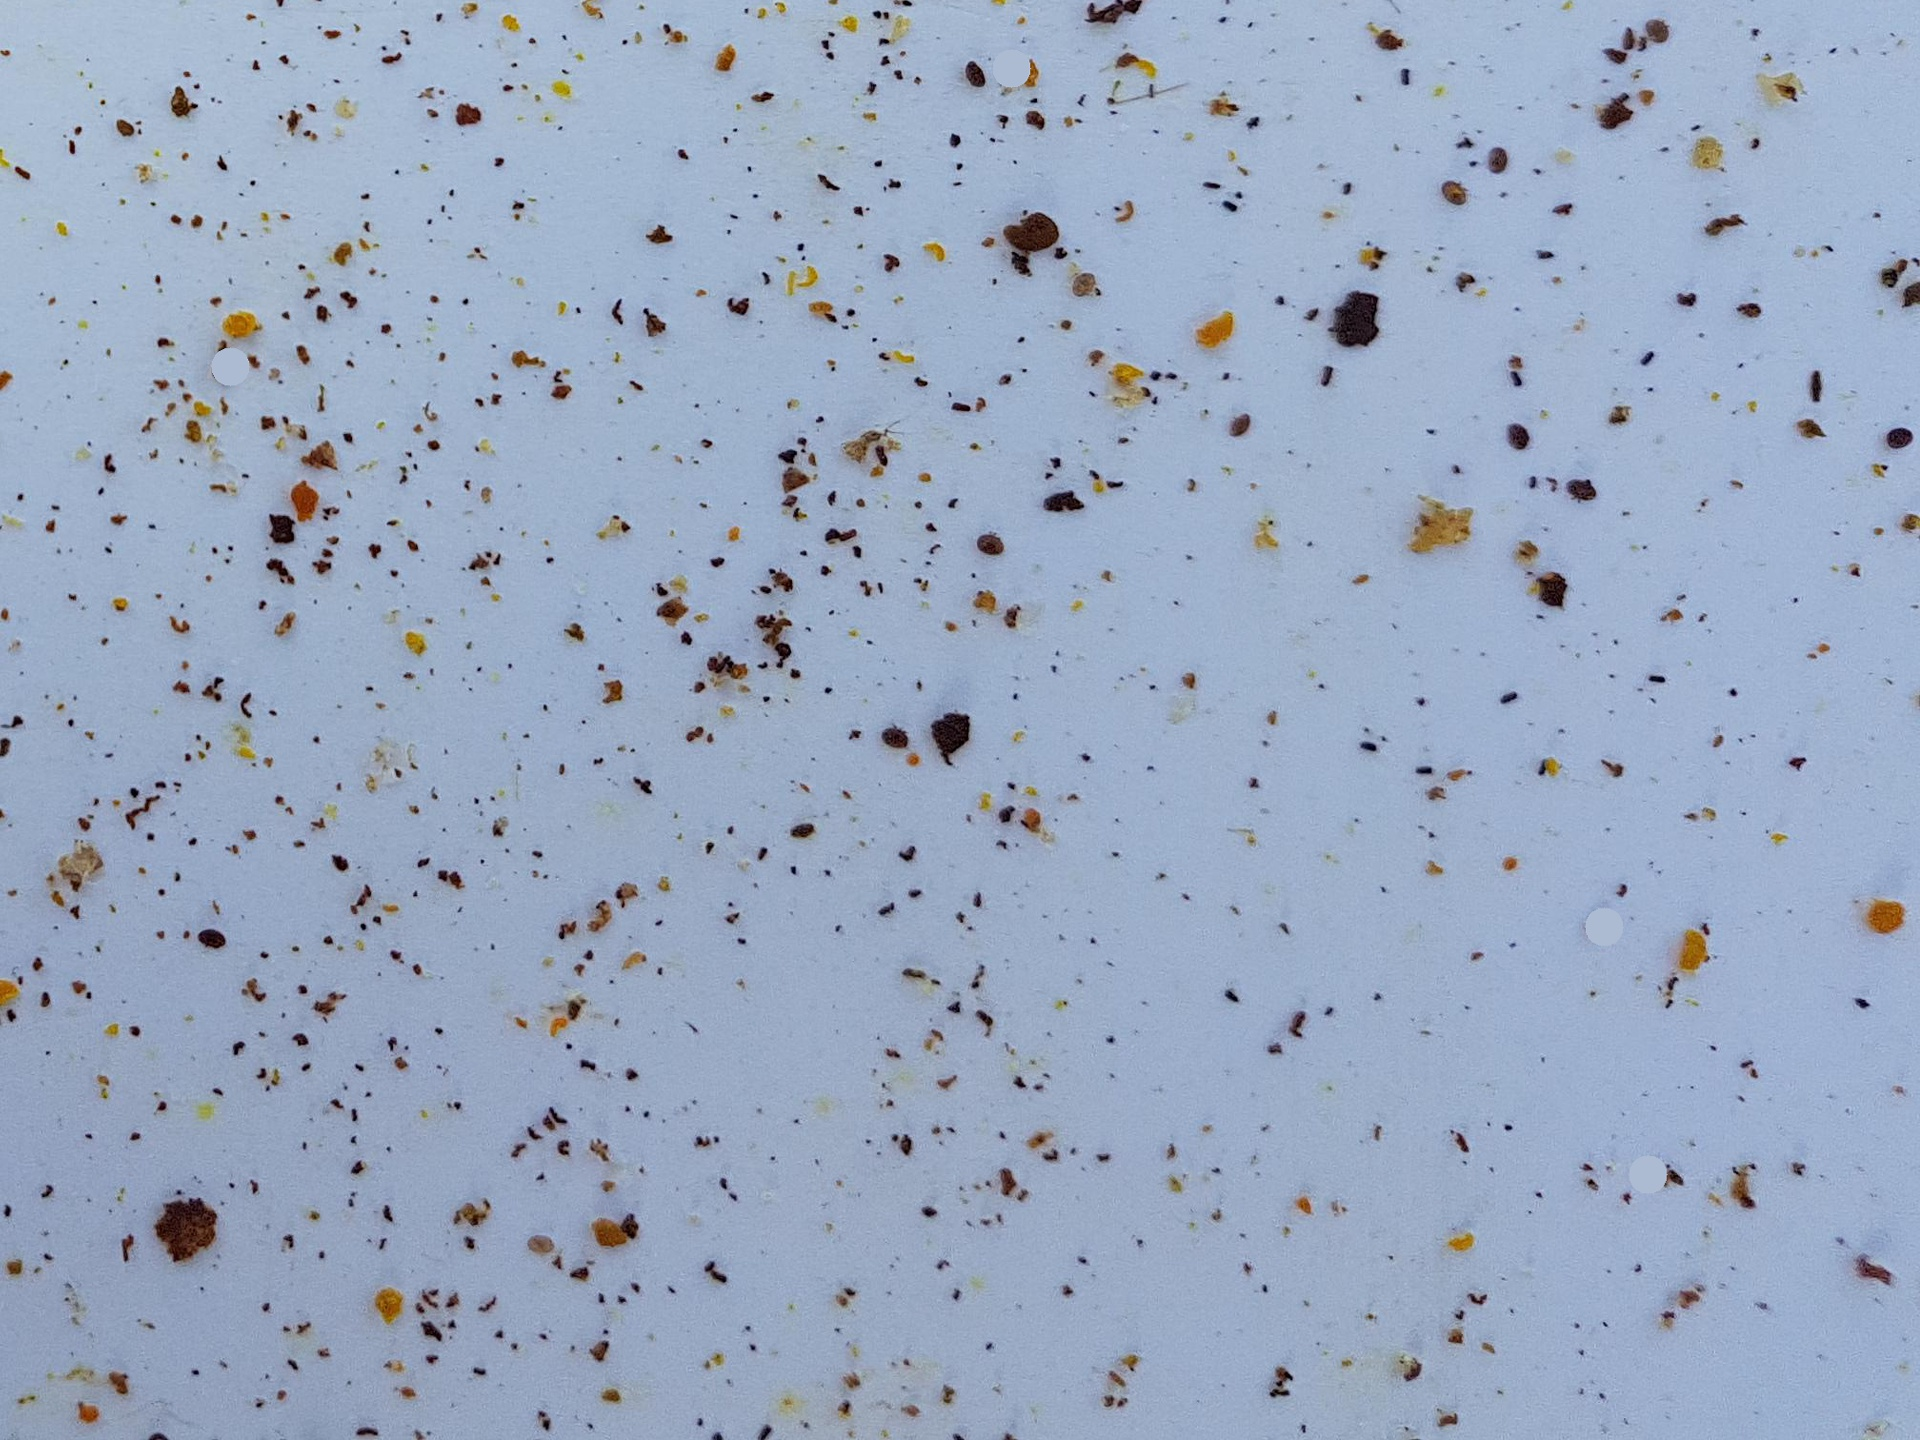Varroa: (1063, 262, 1104, 303), (522, 1224, 561, 1265), (1504, 413, 1534, 452), (883, 725, 915, 761), (977, 526, 1005, 560), (1483, 145, 1513, 175), (1566, 473, 1596, 504), (1643, 12, 1674, 42), (1438, 182, 1468, 212), (962, 59, 992, 88), (200, 923, 227, 951), (1887, 425, 1915, 452), (1226, 413, 1252, 440)
